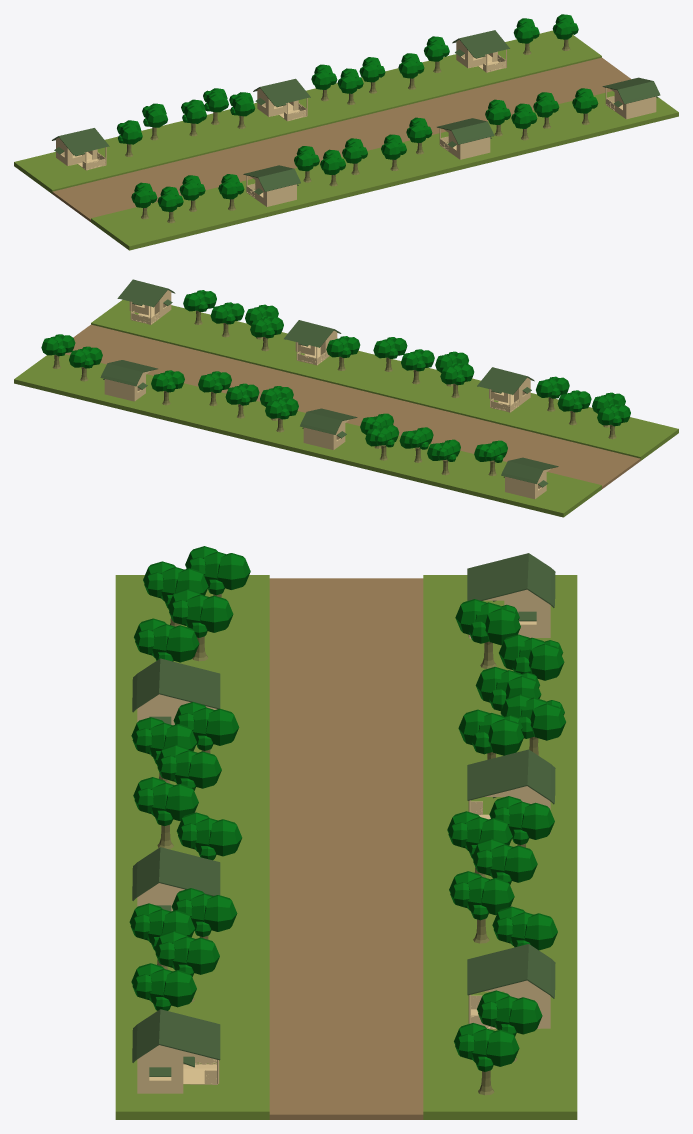
File: city view (province).fbx
3 renders of one model, top to bottom at view 1: azimuth 30°, elevation 25°; view 2: azimuth 150°, elevation 25°; view 3: azimuth 270°, elevation 25°, orthographic. The views are drawn at different scales.
Visible parts, largest first — view 1: Cube.004; view 2: Cube.004; view 3: Cube.004.
Part boxes in pixels (x1,y1,x2,y2): Cube.004: [14, 14, 678, 250]; Cube.004: [14, 279, 678, 517]; Cube.004: [115, 546, 577, 1119].
Bounding box in the file's own units: 5500 × 344 × 2000.
